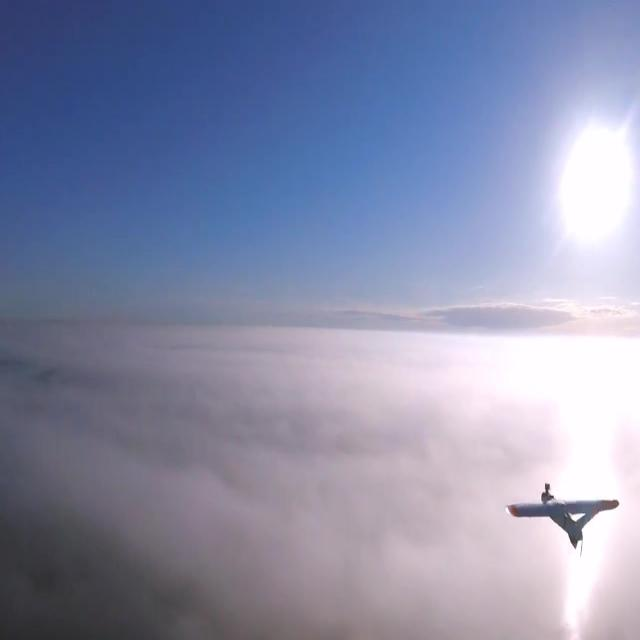iha: (536, 515, 589, 521)
